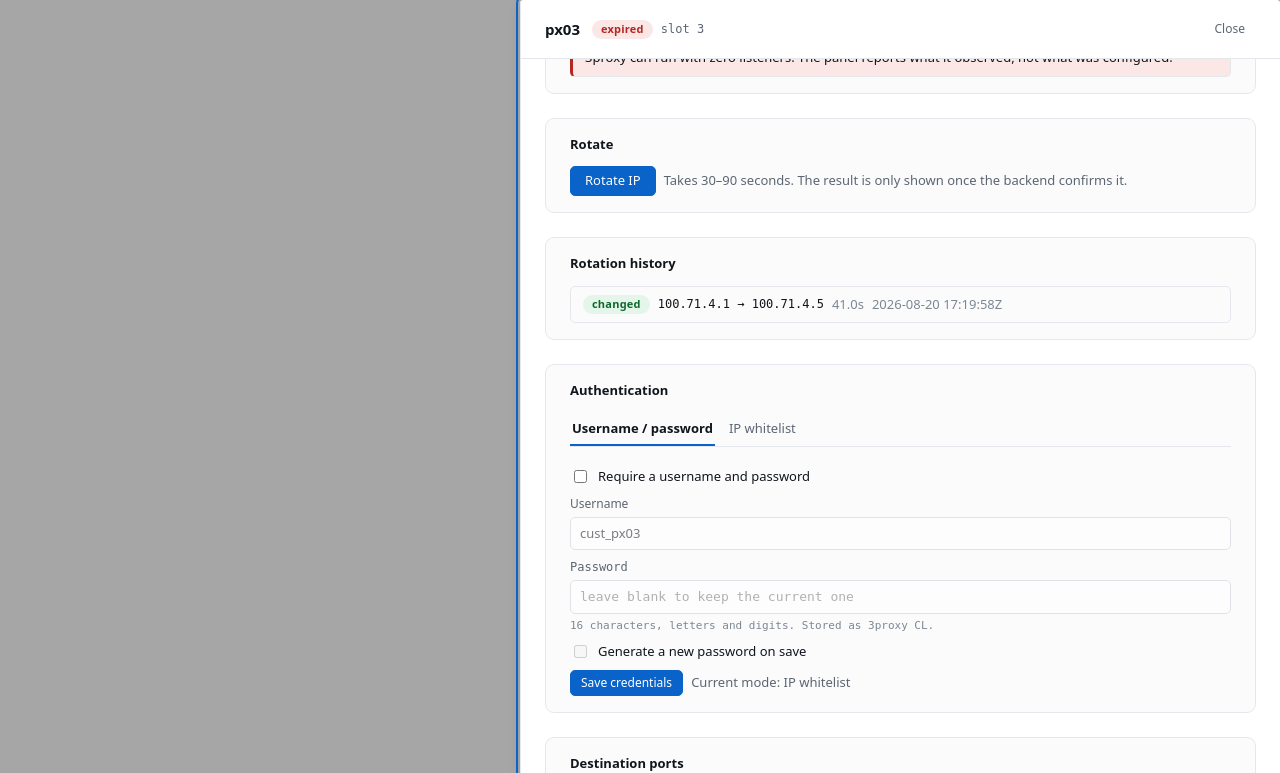
Scenario: auth editor — both modes are editable › refuses to save an IP-list proxy with an empty whitelist
The image size is (1280, 773).
(page scrolled)
Expected: the tab "Username / password" is shown, [570,412,715,446]
Click the tab "IP whitelist": (762, 429) [727,412,798,446]
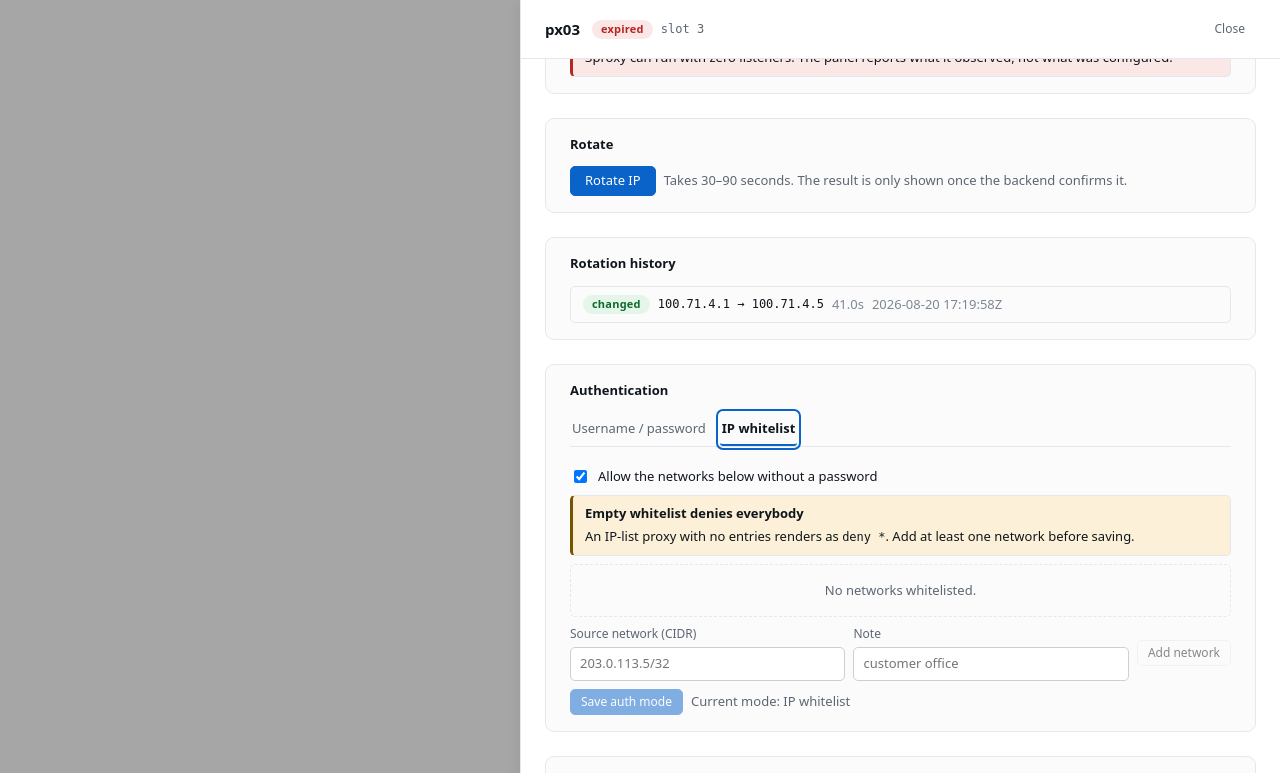
Now the text "Empty whitelist denies everybody" is shown, box [585,504,804,522]
Now the button "Save auth mode" is disabled, box [570,688,683,714]
